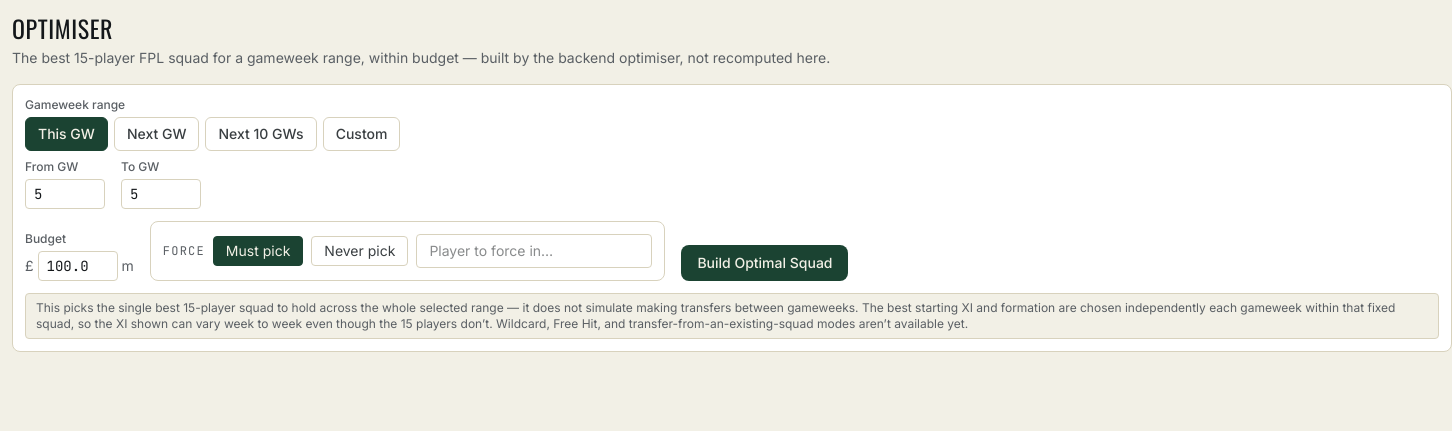
Test: OptimalSquadPage › shows the backend error message when optimisation fails, and never invents a squad
Expected: the button "This GW" is shown, [25,117,108,151]
Click the button "Build Optimal Squad". click: (765, 263)
box: [681,245,848,281]
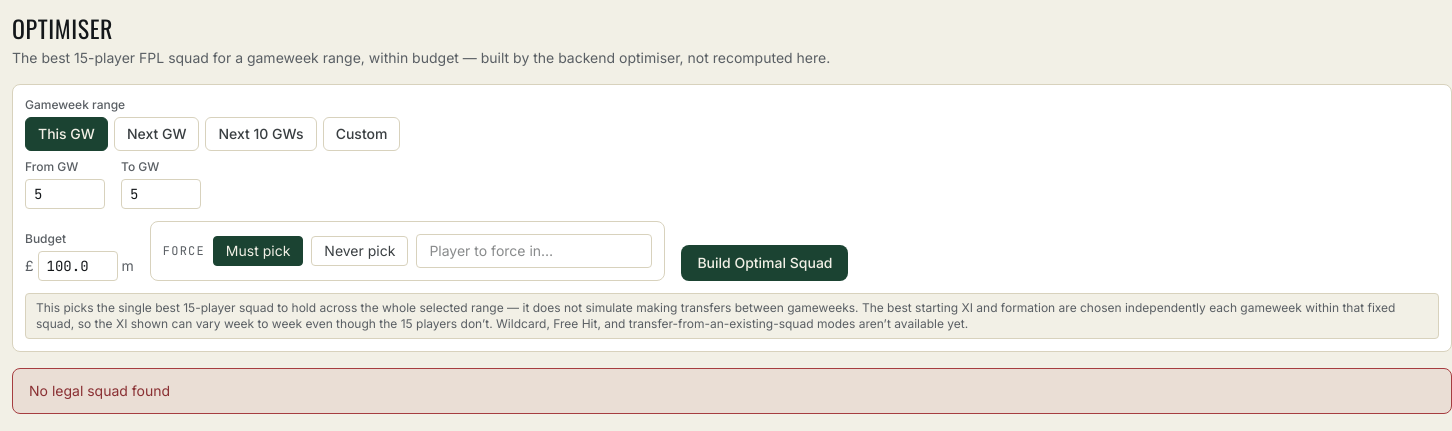
Now the text "No legal squad found" is shown, box [12,368,1451,414]
